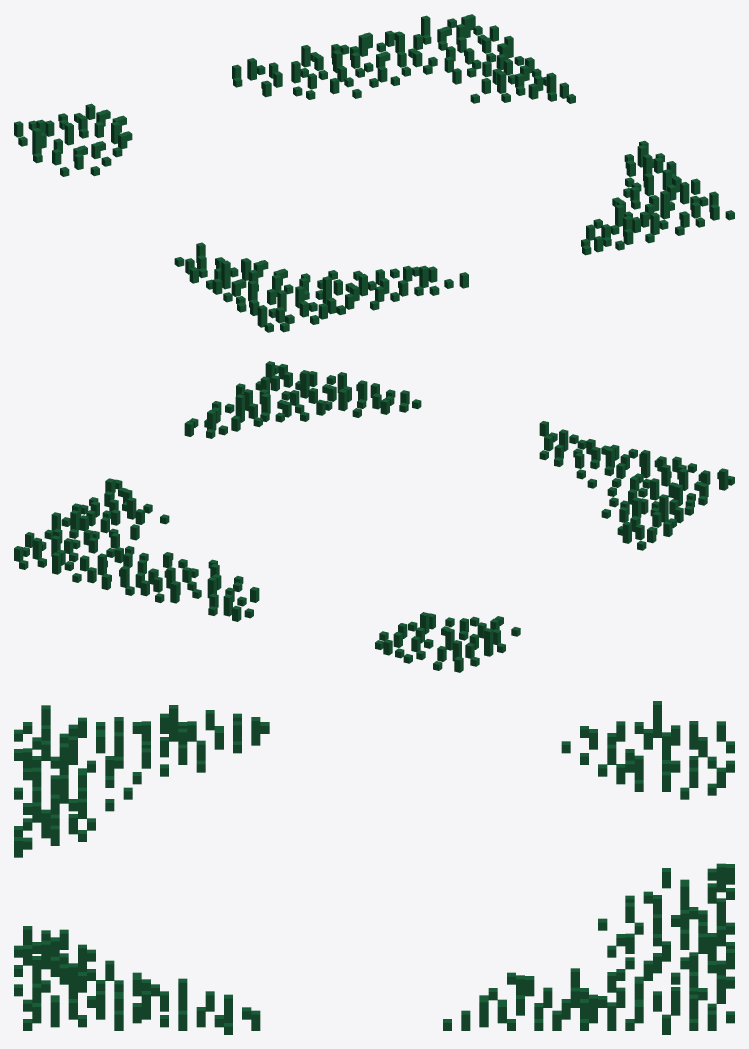
Rendered from grass_3_overtile.obj.
3 renders of one model, top to bottom at view 1: azimuth 30°, elevation 25°; view 2: azimuth 150°, elevation 25°; view 3: azimuth 270°, elevation 25°, orthographic. The views are drawn at different scales.
Bounding box in the file's own units: 8 × 0.4 × 7.9.
1 material, 1 textured.
